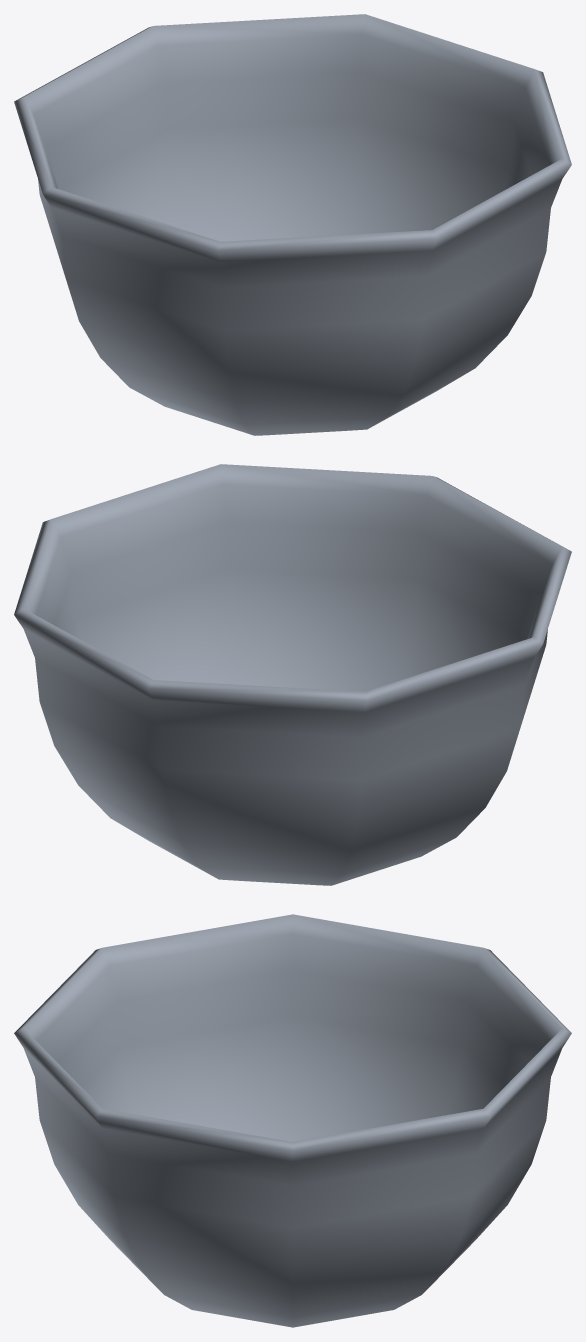
The model's file is mbowl_mixing_bowl_006.glb.
The picture shows the model from 3 angles, top to bottom: view 1: azimuth 30°, elevation 25°; view 2: azimuth 150°, elevation 25°; view 3: azimuth 270°, elevation 25°; orthographic projection. The views are drawn at different scales.
Parts seen in each view (by area): view 1: mbowl mixing bowl.006; view 2: mbowl mixing bowl.006; view 3: mbowl mixing bowl.006.
Boxes of the visible parts, x1=… form: mbowl mixing bowl.006: x1=14, y1=14, x2=571, y2=435; mbowl mixing bowl.006: x1=14, y1=464, x2=571, y2=885; mbowl mixing bowl.006: x1=14, y1=914, x2=571, y2=1327.
Size of the model in its own units: 3.44 by 1.83 by 3.44.
Materials: 1 (1 with a texture image).
